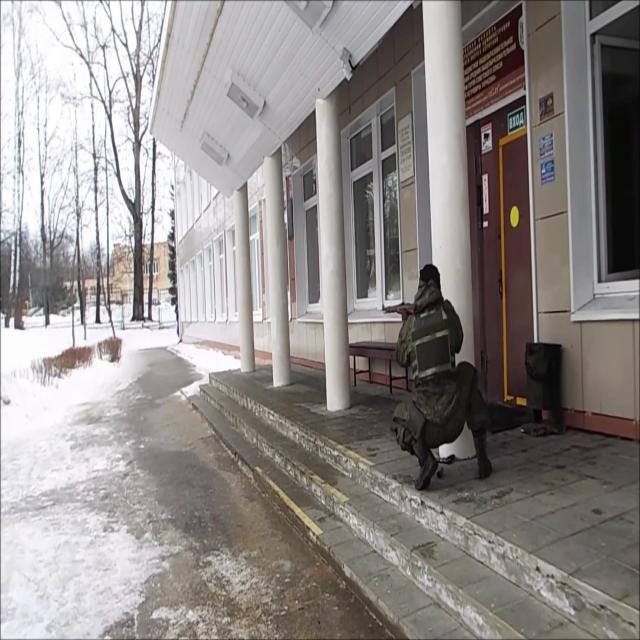gun: (381, 261, 492, 492), (381, 298, 416, 322)
